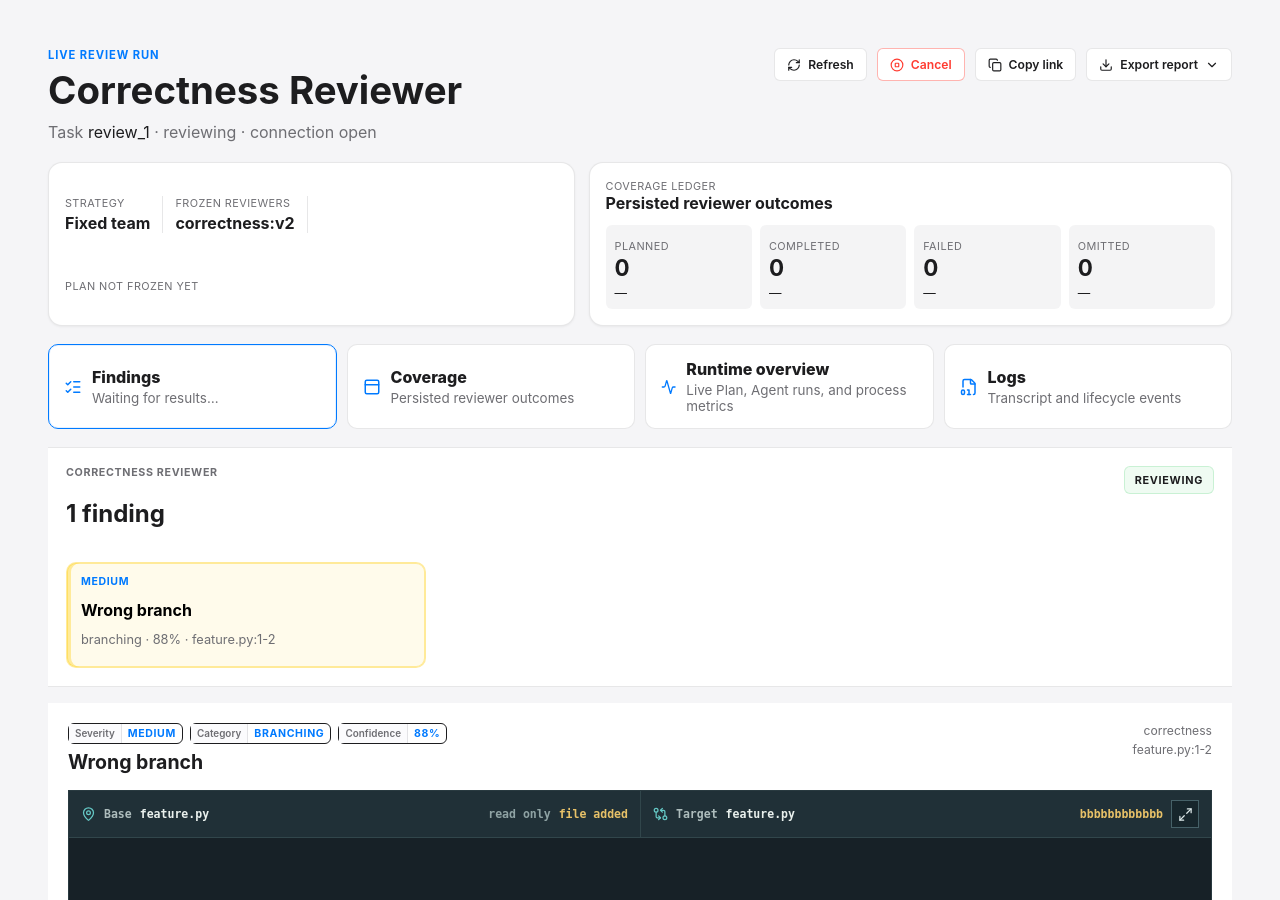
Test: shows the live run and refreshes findings after completion
Expected: the heading "Correctness Reviewer" is shown, [48,70,462,110]
Click the tab "Logs Transcript and lifecycle events": x=1007, y=377 [944,344,1232,429]
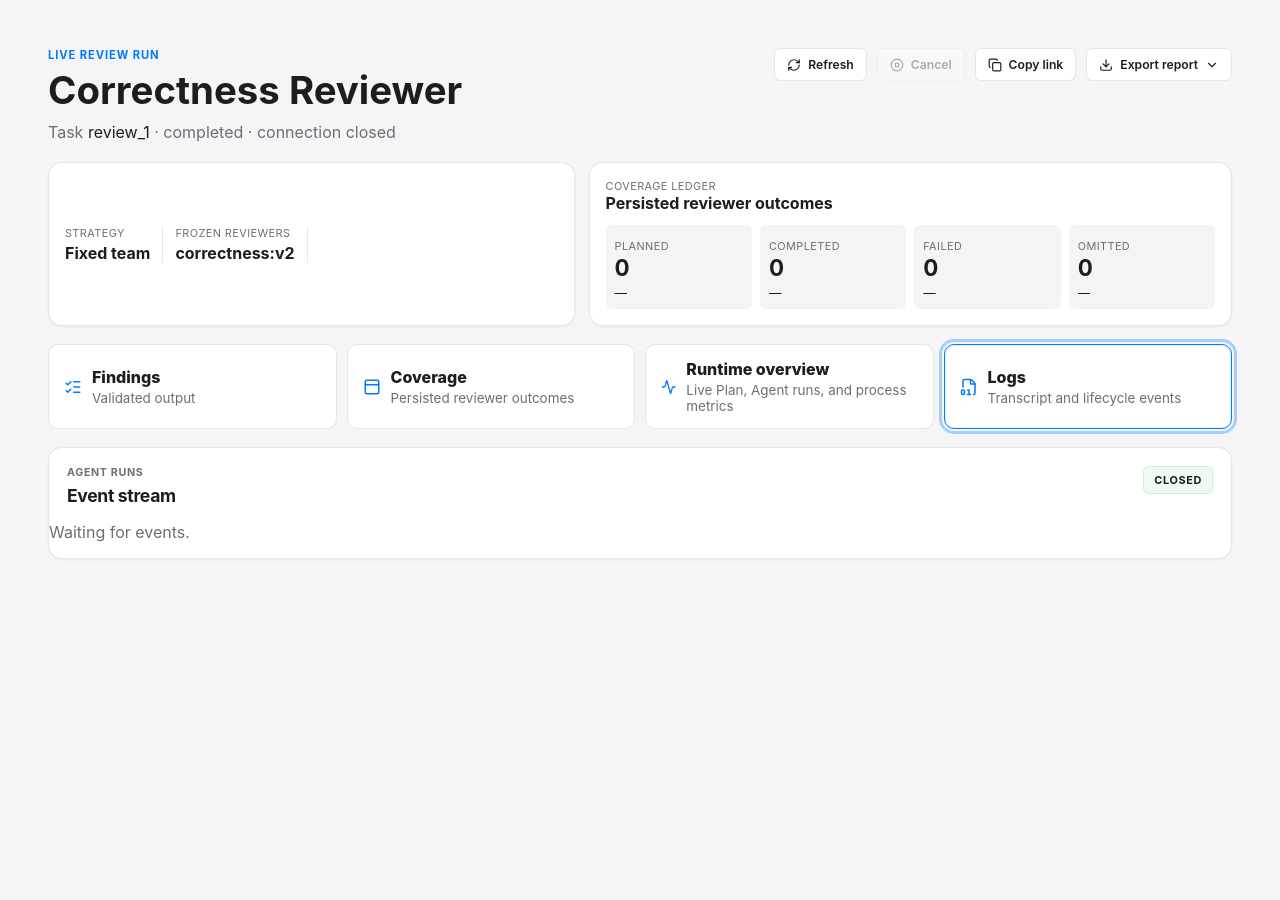
Expected: the text "Waiting for events." is shown, [49,522,190,542]
Expected: the element with class "review-run-page__subtitle" shows "completed", [163,122,243,142]
